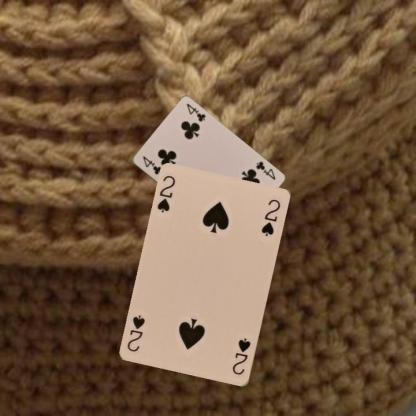2s: (230, 336, 252, 376), (155, 174, 177, 214)
4c: (253, 158, 277, 182), (140, 153, 163, 176)
